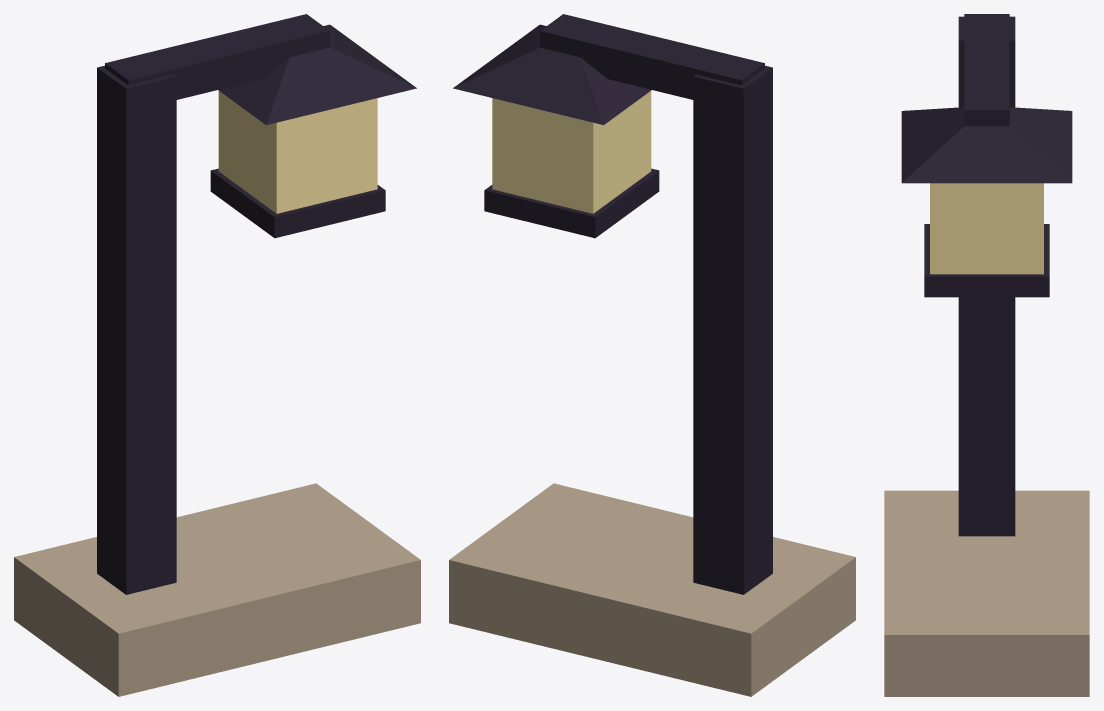
The model's file is lantern.glb.
The picture shows the model from 3 angles, left to right: view 1: azimuth 30°, elevation 25°; view 2: azimuth 150°, elevation 25°; view 3: azimuth 270°, elevation 25°; orthographic projection. The views are drawn at different scales.
Visible parts, largest first — view 1: cave-lantern; view 2: cave-lantern; view 3: cave-lantern.
Boxes of the visible parts, x1,y1,x2,y2 form: cave-lantern: [14, 14, 420, 696]; cave-lantern: [449, 14, 855, 696]; cave-lantern: [884, 14, 1089, 696].
Bounding box in the file's own units: 0.305 × 0.545 × 0.18.
